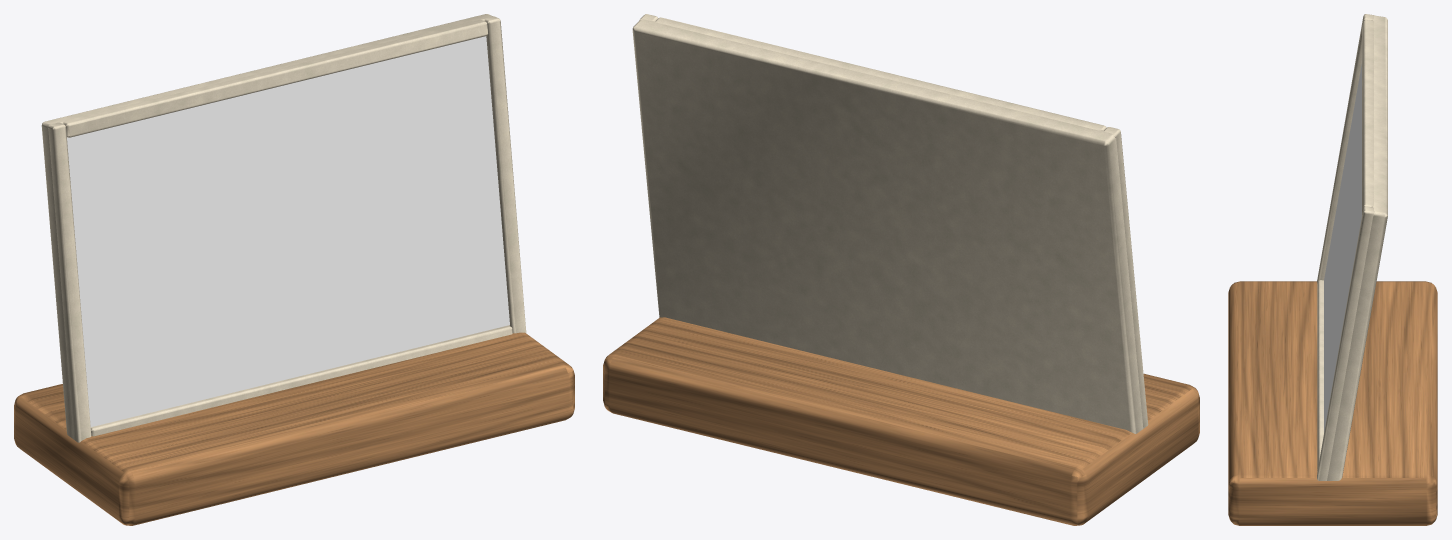
The model's file is preview.glb.
3 views of the same model, side by side, from view 1: azimuth 30°, elevation 25°; view 2: azimuth 150°, elevation 25°; view 3: azimuth 270°, elevation 25° (orthographic). The views are drawn at different scales.
Parts seen in each view (by area): view 1: CounterCard; view 2: CounterCard; view 3: CounterCard.
Boxes of the visible parts, x1,y1,x2,y2 form: CounterCard: (14, 14, 574, 525); CounterCard: (603, 14, 1199, 525); CounterCard: (1228, 14, 1437, 525).
Size of the model in its own units: 0.205 by 0.1503 by 0.09.
3 materials, 2 textured.
